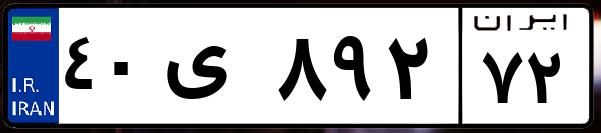0: (110, 28, 158, 98)
2: (385, 28, 445, 110), (525, 38, 570, 115)
4: (57, 26, 110, 100)
7: (475, 38, 525, 113)
8: (270, 28, 330, 110)
9: (330, 28, 385, 110)
ی: (158, 20, 270, 120)
